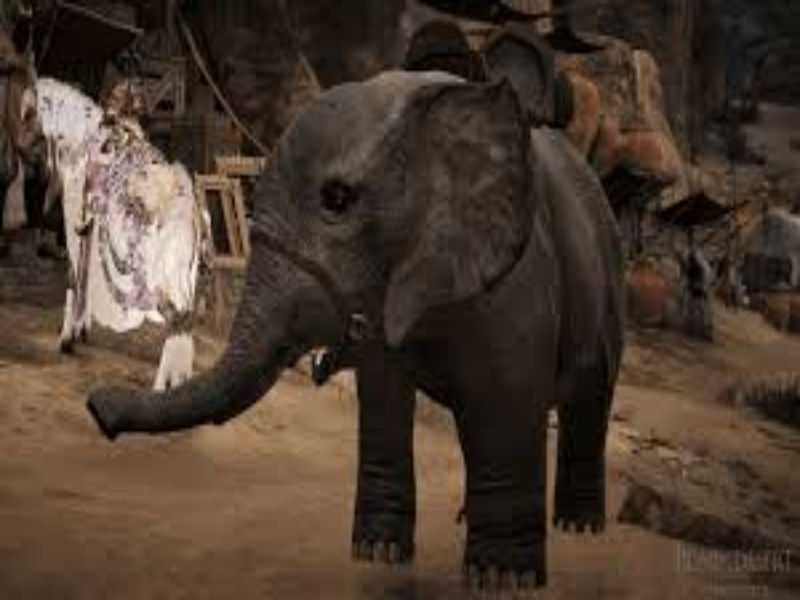elephant: (88, 72, 648, 585)
